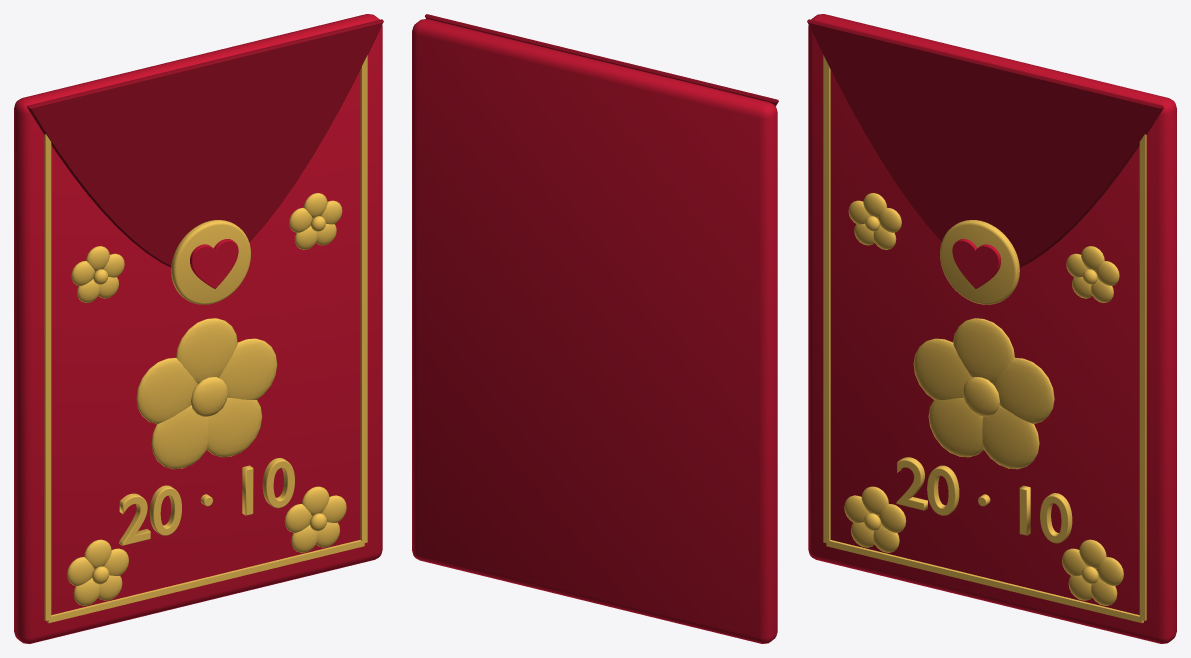
File: lixi.glb
The picture shows the model from 3 angles, left to right: view 1: azimuth 30°, elevation 25°; view 2: azimuth 150°, elevation 25°; view 3: azimuth 330°, elevation 25°; orthographic projection.
Parts seen in each view (by area): view 1: Body, Flap, Seal; view 2: Body, Flap; view 3: Body, Flap, Seal.
Boxes of the visible parts, x1,y1,x2,y2 form: Body: (14,14,382,643); Flap: (27,19,383,267); Seal: (171,220,250,304); Body: (412,19,777,643); Flap: (425,14,778,106); Body: (808,14,1176,643); Flap: (807,19,1163,267); Seal: (940,220,1019,304).
Bounding box in the file's own units: 1.4 × 2 × 0.159.
